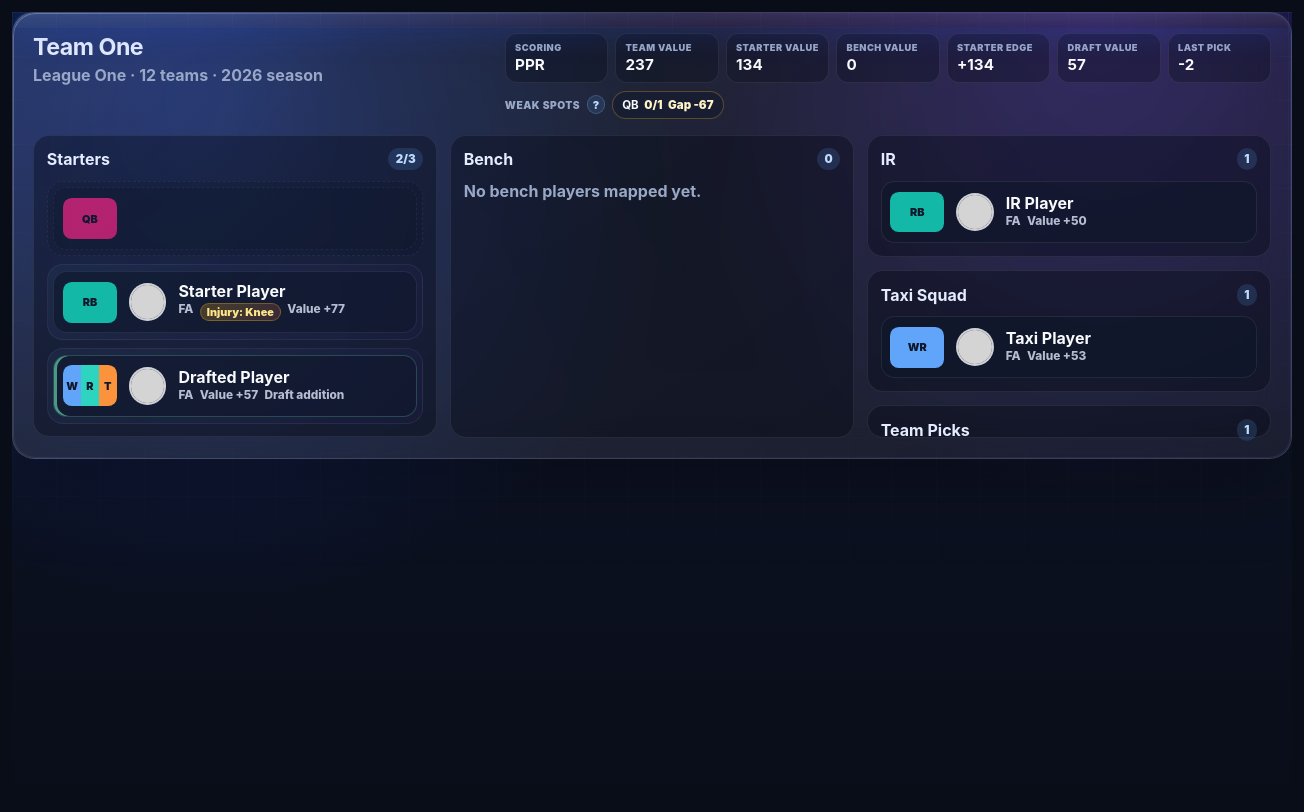
Scenario: LockerRoomModule › shows injury details on roster rows and player insights
expect the text "Injury: Knee" is shown: met, box [200,303,281,321]
Click the button "RB Starter Player FA Injury: Knee Value +77": (235, 302) [53,271,417,333]
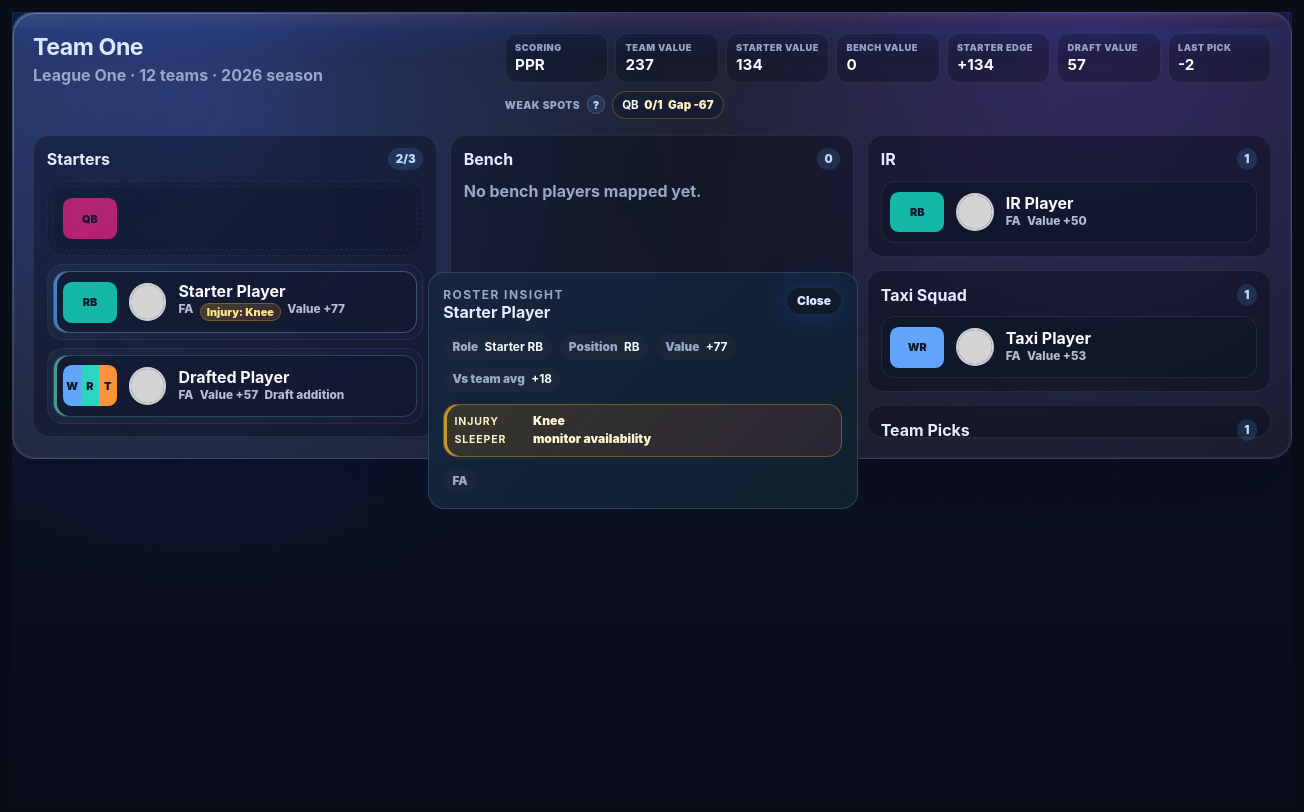
expect the text "Roster Insight" is shown: met, box [443,287,564,302]
expect the text "Knee" is shown: met, box [533,413,565,428]
